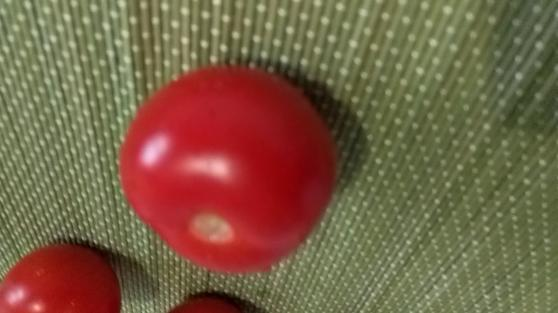tomato: (124, 64, 341, 276), (2, 232, 120, 313)
